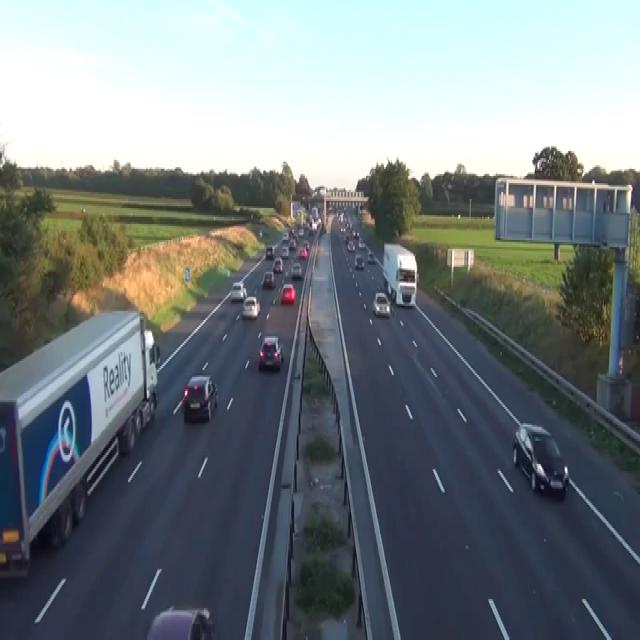Car: (512, 421, 569, 498), (145, 604, 214, 638), (183, 374, 218, 422), (258, 334, 283, 370), (144, 329, 160, 366), (372, 292, 391, 316), (241, 295, 260, 318), (280, 283, 296, 304), (230, 281, 247, 300), (261, 270, 275, 288), (272, 256, 283, 272), (291, 262, 302, 278), (354, 254, 364, 268), (265, 245, 274, 258), (281, 245, 289, 258), (299, 247, 308, 258), (367, 251, 375, 263), (347, 240, 355, 251), (358, 238, 365, 249), (289, 238, 296, 249), (302, 240, 309, 249), (282, 231, 289, 240), (352, 230, 359, 238), (298, 228, 304, 236), (308, 228, 314, 236), (316, 217, 321, 226), (344, 233, 349, 242), (340, 224, 345, 233), (328, 204, 333, 212), (290, 228, 295, 236), (259, 228, 262, 236)
Truck: (0, 308, 160, 582), (382, 242, 418, 308)
